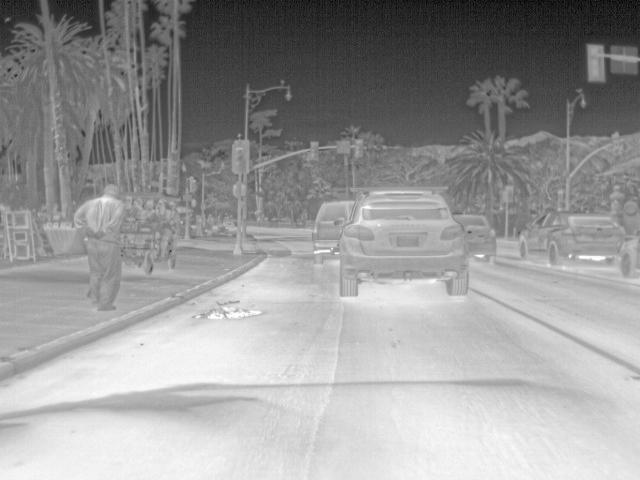car: (336, 183, 471, 294), (516, 210, 628, 267), (312, 198, 358, 264), (449, 212, 498, 267), (615, 234, 639, 280)
person: (69, 183, 128, 309), (154, 198, 176, 230), (120, 195, 140, 222), (140, 199, 158, 220)
